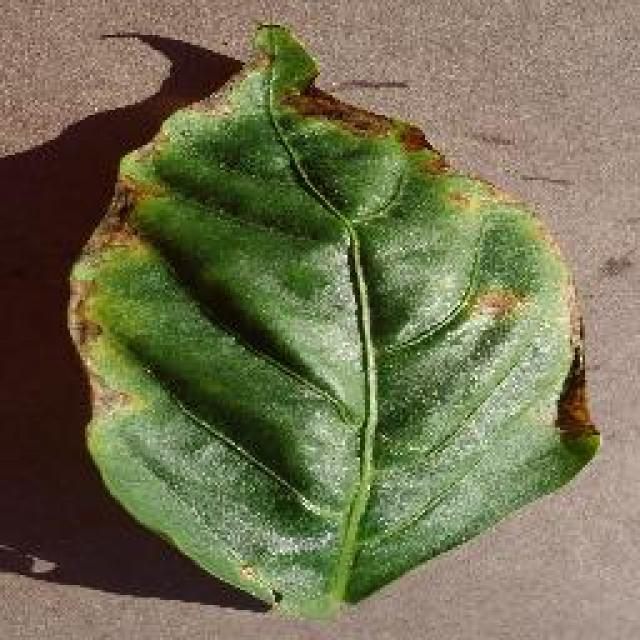Chilli_Bacterial_Spot: (60, 18, 602, 620), (470, 282, 525, 322), (235, 560, 257, 582)
